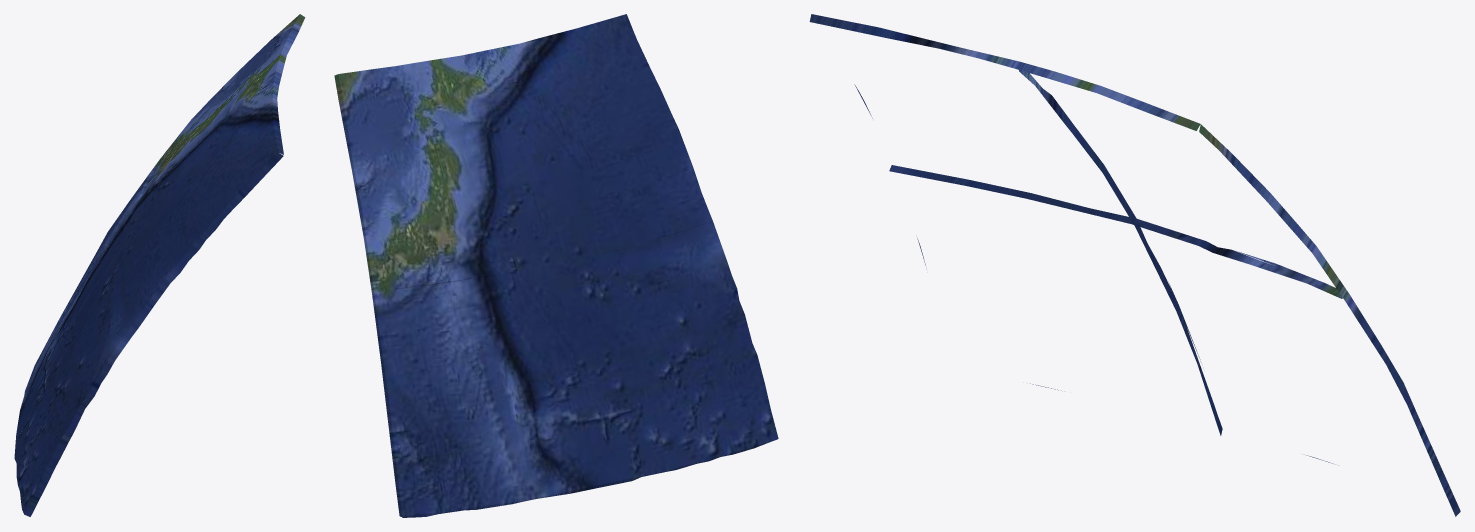
3 views of the same model, side by side, from view 1: azimuth 30°, elevation 25°; view 2: azimuth 150°, elevation 25°; view 3: azimuth 270°, elevation 25° (orthographic). The views are drawn at different scales.
Size of the model in its own units: 2288963 by 2105959 by 2471642.
1 material, 1 textured.
